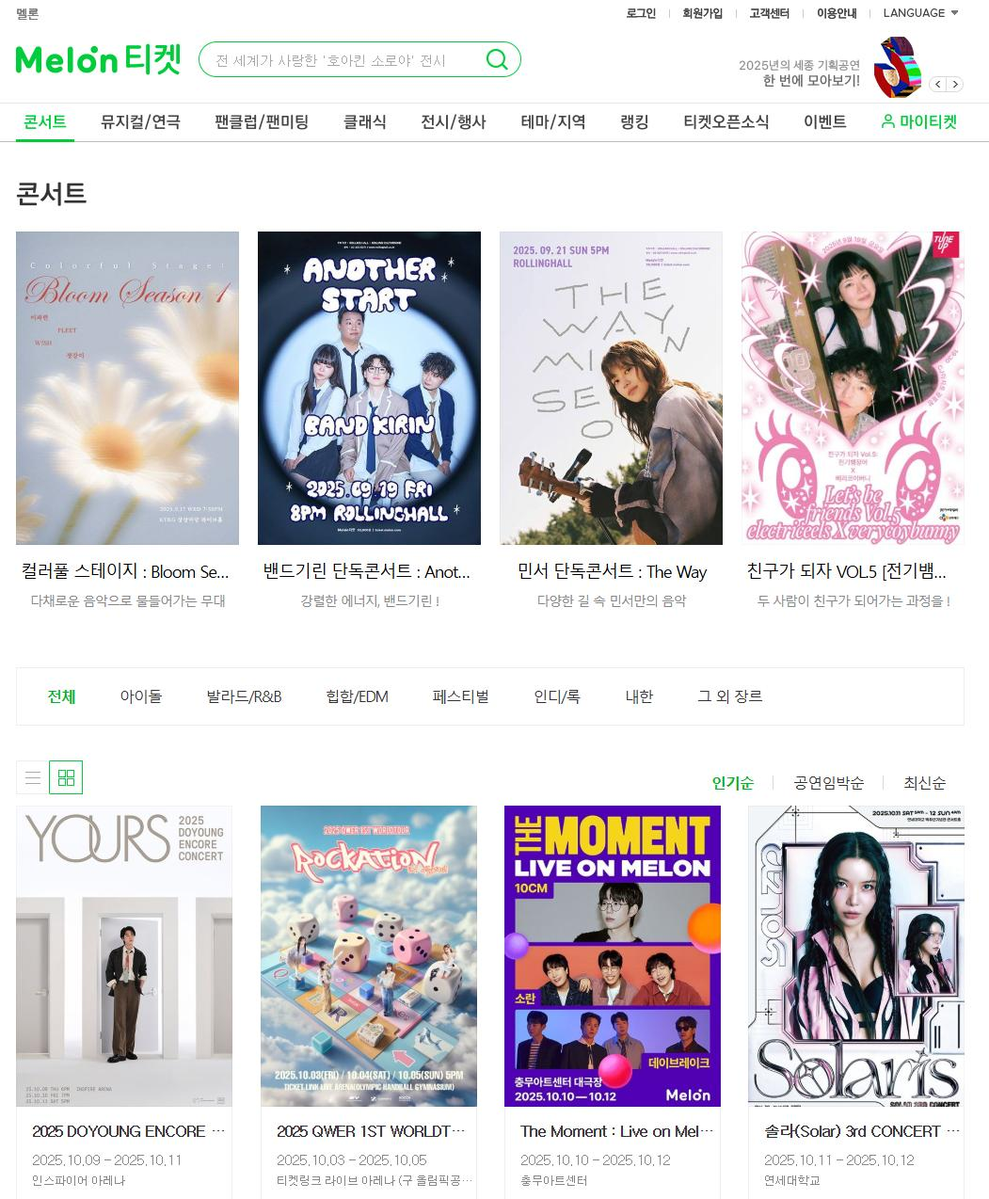button: (779, 762, 873, 798), (201, 674, 299, 708), (88, 107, 177, 143), (433, 674, 502, 719), (30, 672, 107, 710), (519, 678, 595, 715), (326, 679, 407, 713), (209, 104, 314, 128), (525, 111, 602, 143), (900, 764, 977, 792), (888, 117, 984, 139), (600, 676, 662, 710), (21, 105, 81, 139), (128, 674, 173, 717), (678, 107, 760, 130), (706, 766, 762, 798), (420, 100, 493, 124), (689, 681, 753, 708), (869, 0, 969, 17), (335, 102, 382, 137), (747, 0, 798, 26), (787, 111, 839, 136), (625, 102, 655, 139), (806, 0, 851, 23), (8, 759, 41, 789), (687, 0, 721, 24), (615, 6, 653, 24), (933, 72, 971, 85), (55, 762, 77, 779)
input_field: (196, 36, 518, 77)
